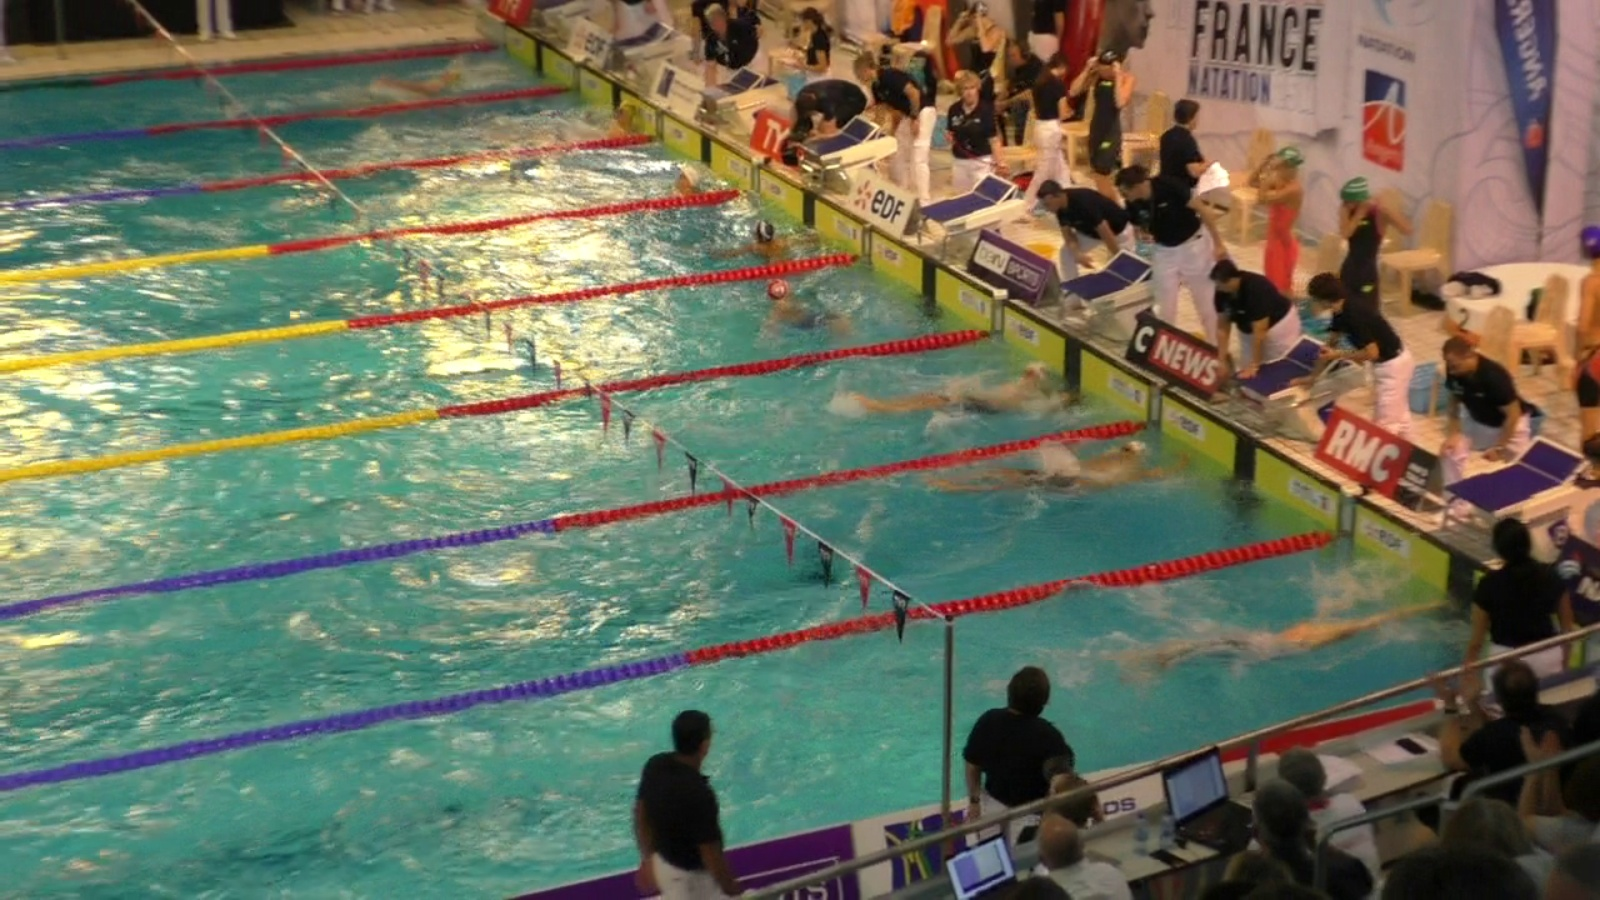swimmerwdd: (1110, 576, 1445, 689), (926, 433, 1185, 501), (829, 362, 1063, 419), (749, 279, 882, 338), (705, 221, 838, 269), (351, 60, 493, 104), (593, 105, 651, 160), (665, 164, 705, 215)
